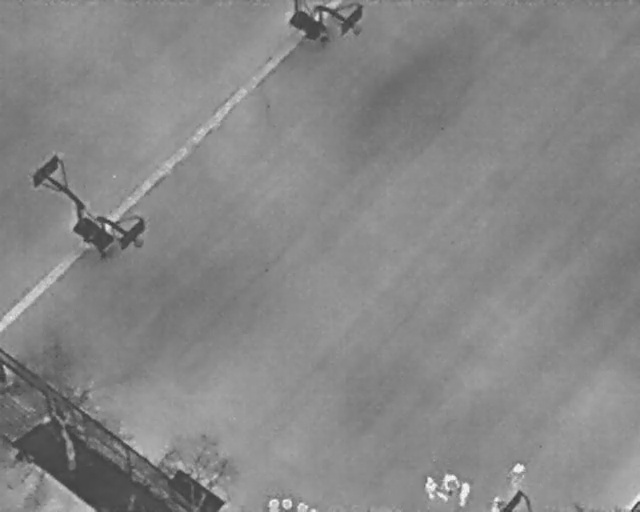Person: (505, 458, 530, 490), (421, 472, 441, 503), (453, 478, 473, 508), (443, 471, 460, 502), (488, 495, 501, 510)
